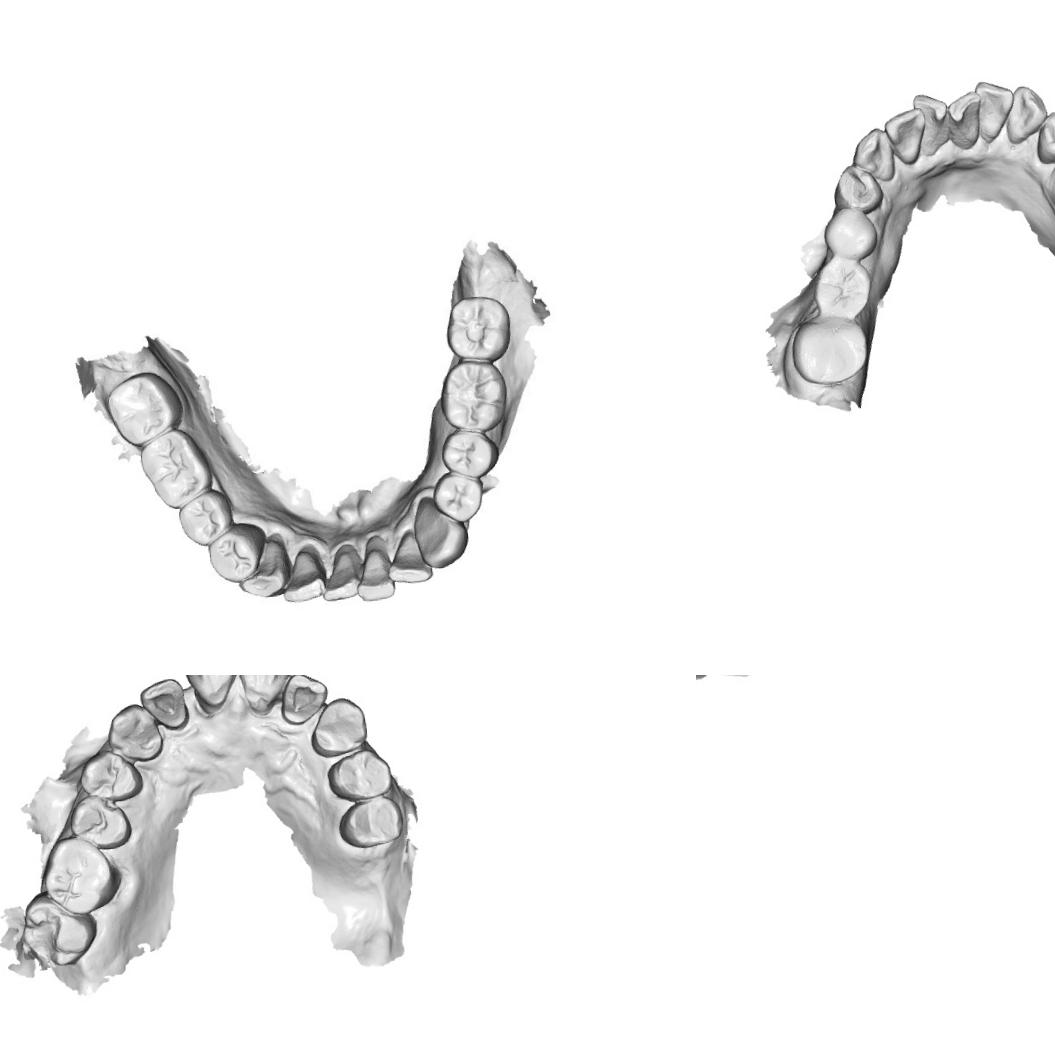canine: (411, 500, 472, 572), (305, 694, 369, 758), (104, 700, 164, 764), (235, 536, 290, 598), (1002, 81, 1050, 146), (848, 125, 896, 184)
incisor: (972, 77, 1018, 144), (881, 106, 929, 166), (351, 538, 398, 599), (278, 548, 329, 604), (137, 676, 188, 732), (386, 530, 435, 587), (910, 90, 951, 157), (233, 675, 297, 716), (278, 675, 330, 725), (944, 89, 985, 150), (318, 550, 364, 604), (179, 675, 242, 709)
molar: (17, 884, 100, 972), (40, 832, 124, 917), (103, 368, 187, 452), (136, 424, 216, 512), (788, 310, 872, 388), (438, 357, 510, 437), (442, 292, 514, 365), (808, 254, 875, 324)
premolar: (174, 484, 239, 552), (66, 790, 134, 852), (335, 792, 405, 850), (324, 746, 394, 803), (76, 746, 144, 804), (205, 521, 264, 584), (437, 424, 501, 482), (820, 204, 880, 264), (429, 470, 483, 526), (830, 162, 886, 216), (1032, 108, 1055, 165)
